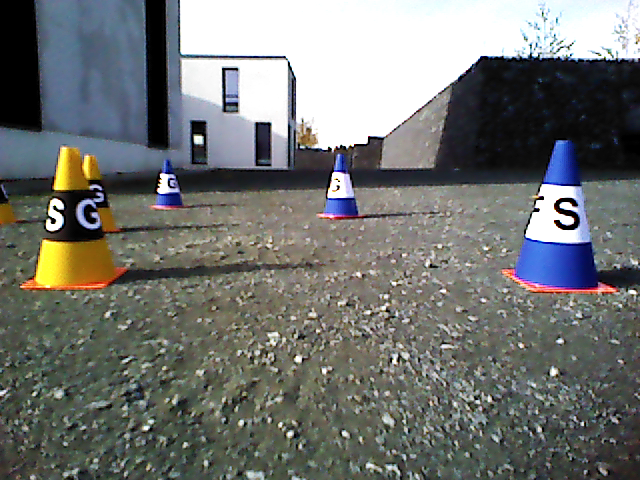bluecone: (518, 141, 599, 287), (324, 154, 358, 214), (155, 160, 184, 205)
yellowcone: (36, 147, 112, 285), (88, 154, 117, 230)
